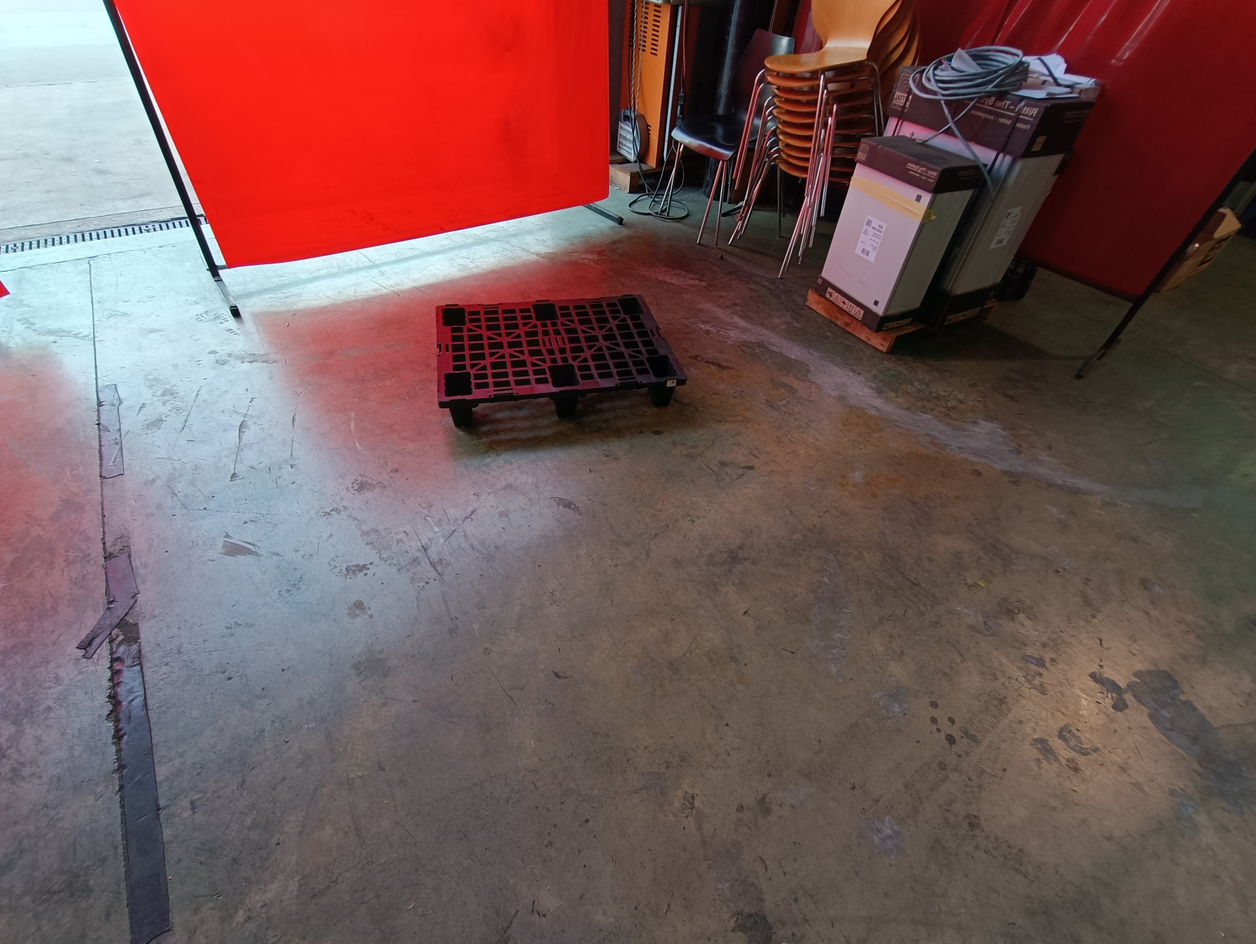block: (556, 393, 584, 425), (654, 380, 682, 412), (452, 399, 478, 430)
front: (442, 380, 690, 433)
hole pallet: (577, 385, 660, 413), (475, 400, 558, 425)
